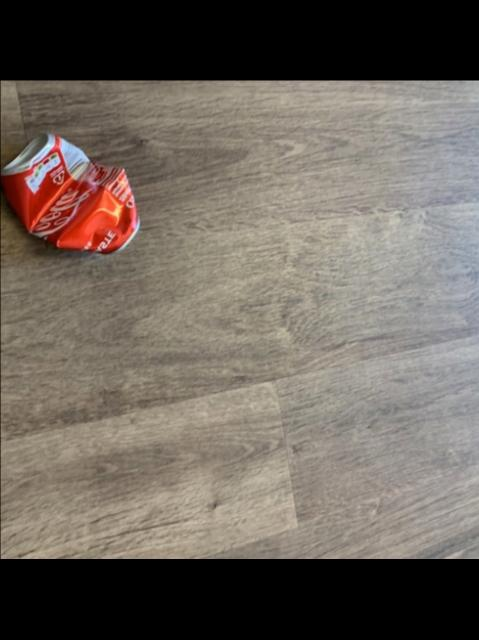metal: (0, 132, 137, 252)
